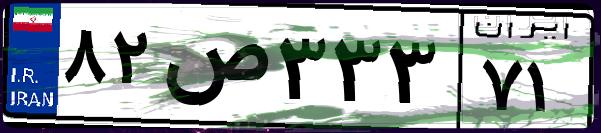1: (525, 38, 570, 115)
2: (110, 28, 158, 98)
3: (270, 28, 330, 110), (385, 28, 445, 110), (330, 28, 385, 110)
7: (475, 38, 525, 113)
8: (57, 26, 110, 100)
ص: (158, 20, 270, 120)
